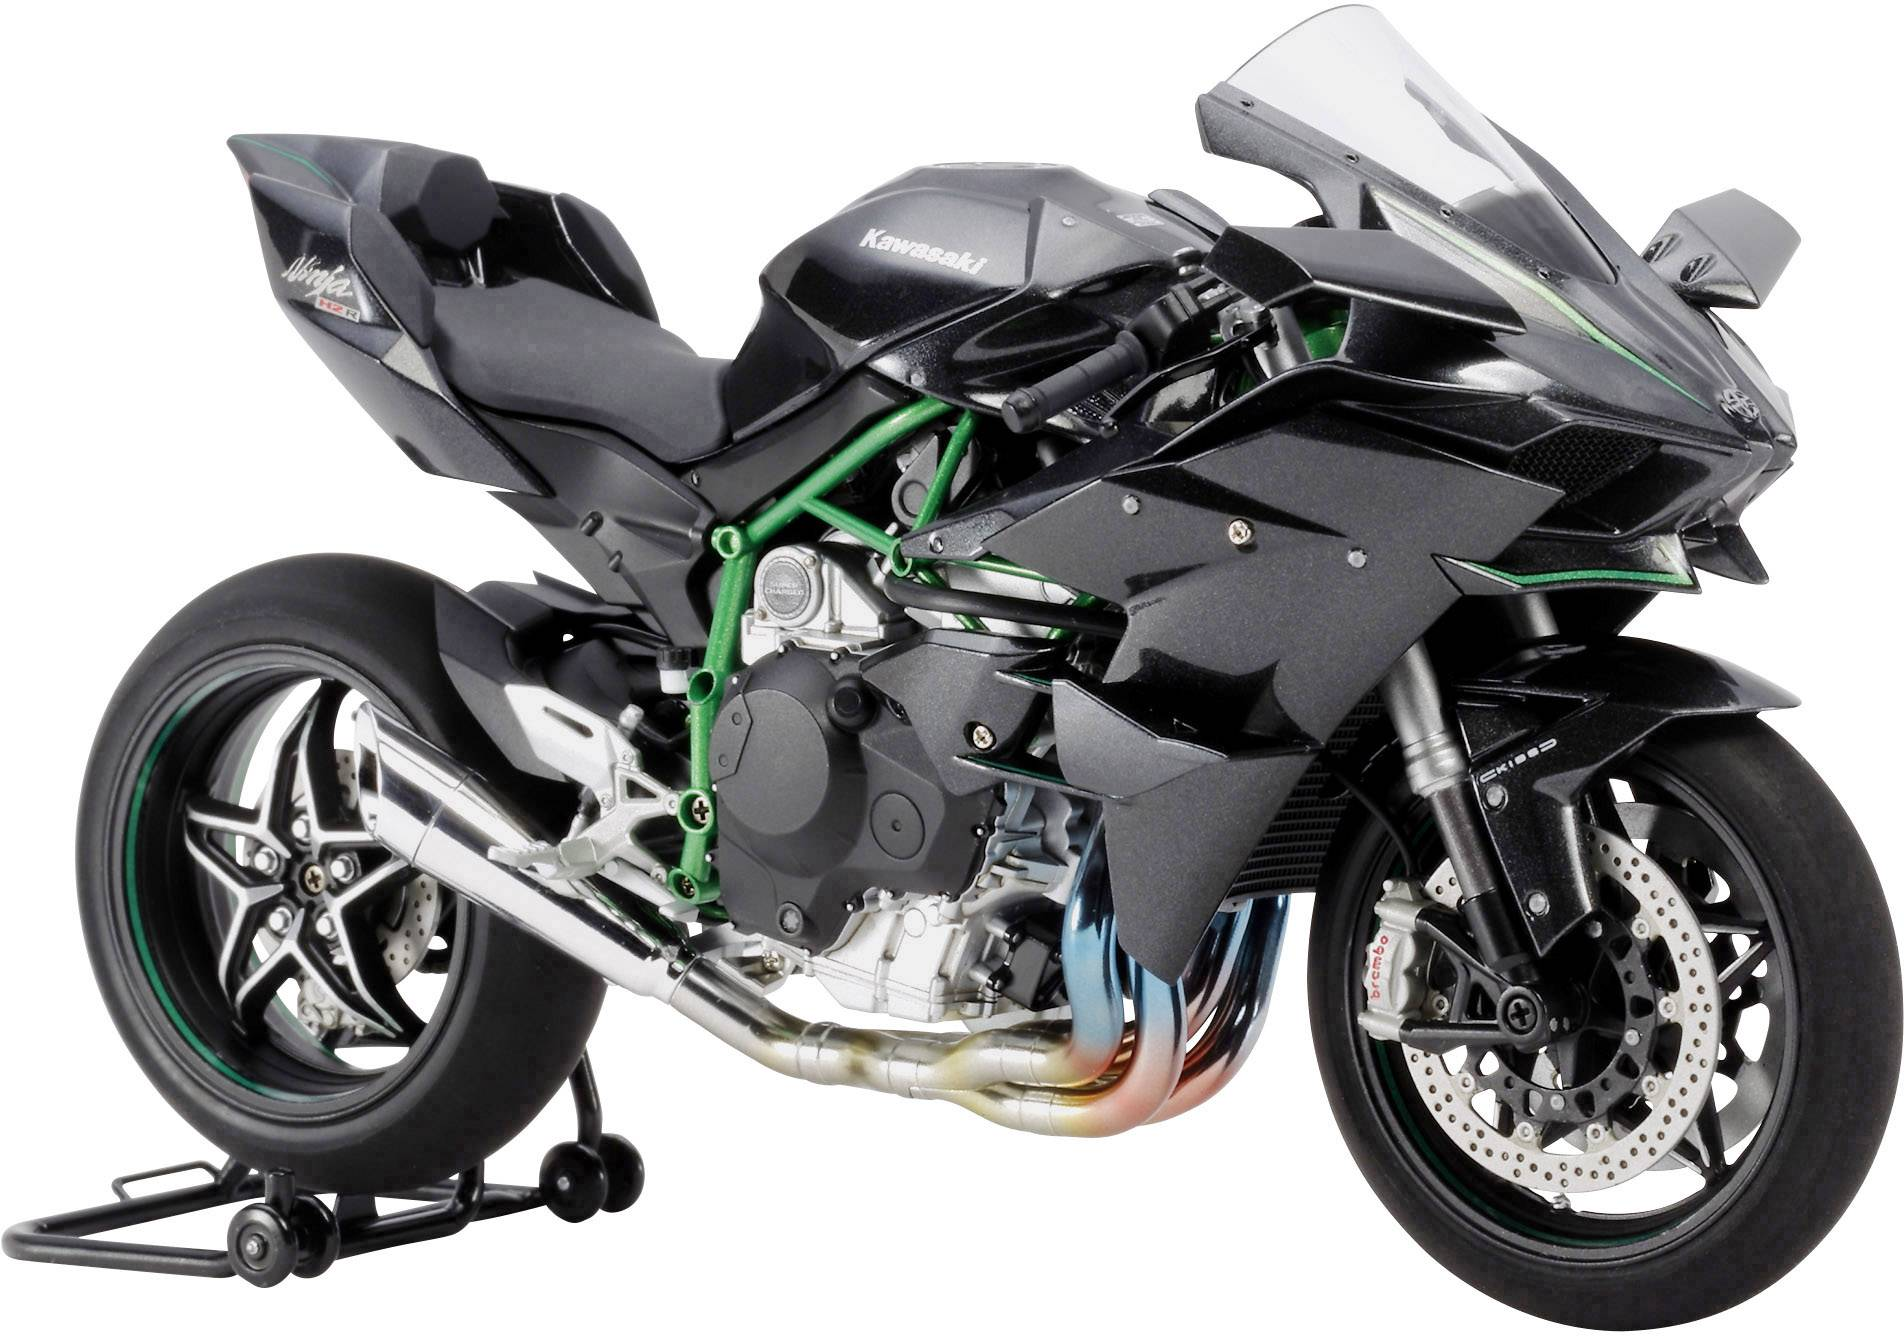motorcycle: (71, 123, 1903, 1311)
